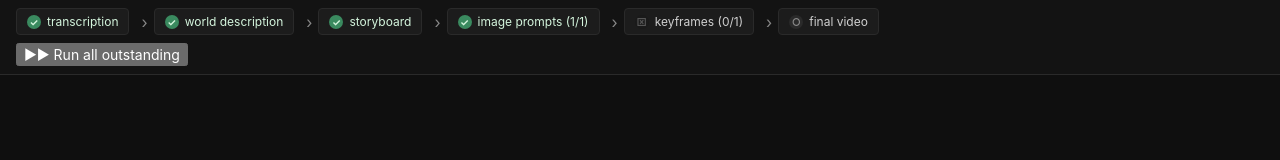
Test case: PipelinePanel › Story 29: renders blocked reason from backend workflow state
Click the button "⌧ keyframes (0/1)": (689, 22) x1=624 y1=8 x2=754 y2=35
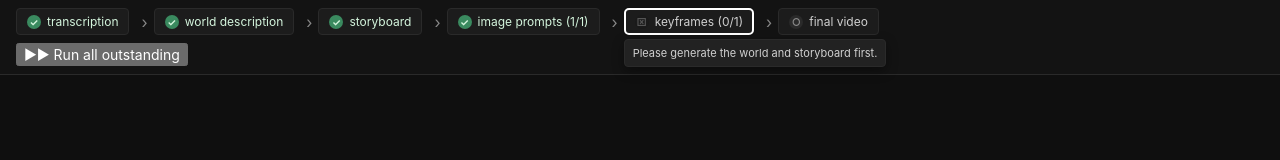
Expected: the tooltip reads "Please generate the world and storyboard first.", x1=633 y1=46 x2=877 y2=60
